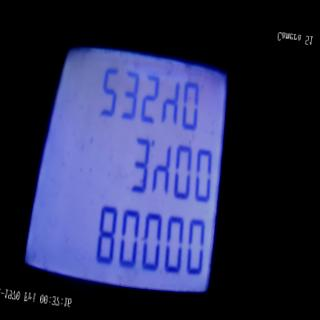screen: (11, 9, 250, 320)
